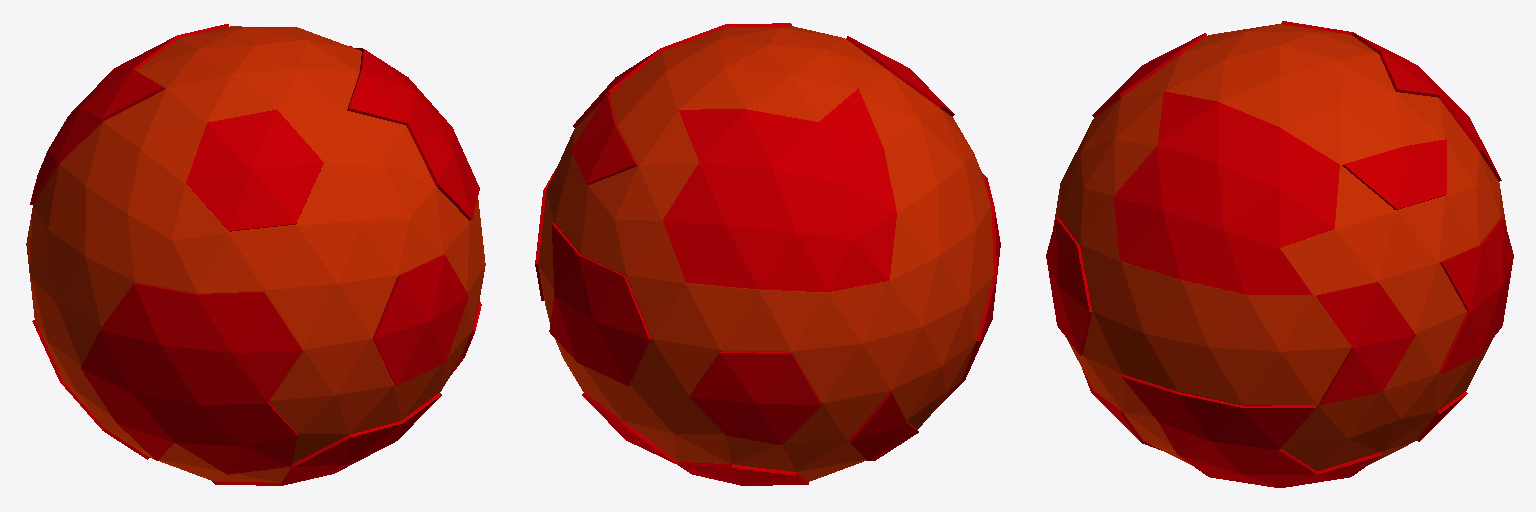
Rendered from Venus.obj.
The picture shows the model from 3 angles: view 1: azimuth 30°, elevation 25°; view 2: azimuth 150°, elevation 25°; view 3: azimuth 270°, elevation 25°; orthographic projection.
Parts seen in each view (by area): view 1: Icosphere; view 2: Icosphere; view 3: Icosphere.
Part boxes in pixels (left/top/right/bottom): Icosphere: left=26, top=24, right=485, bottom=485; Icosphere: left=535, top=23, right=1000, bottom=485; Icosphere: left=1046, top=21, right=1513, bottom=487.
Size of the model in its own units: 2.08 by 2.09 by 2.11.